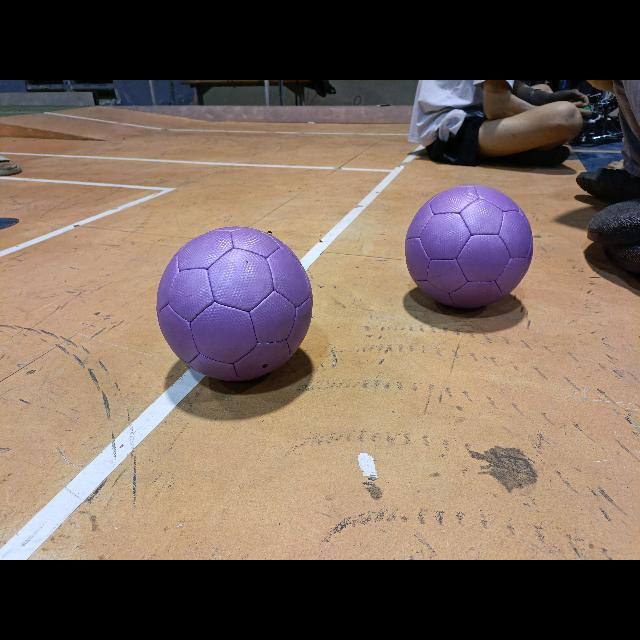P: (158, 228, 312, 380), (405, 185, 533, 308)
